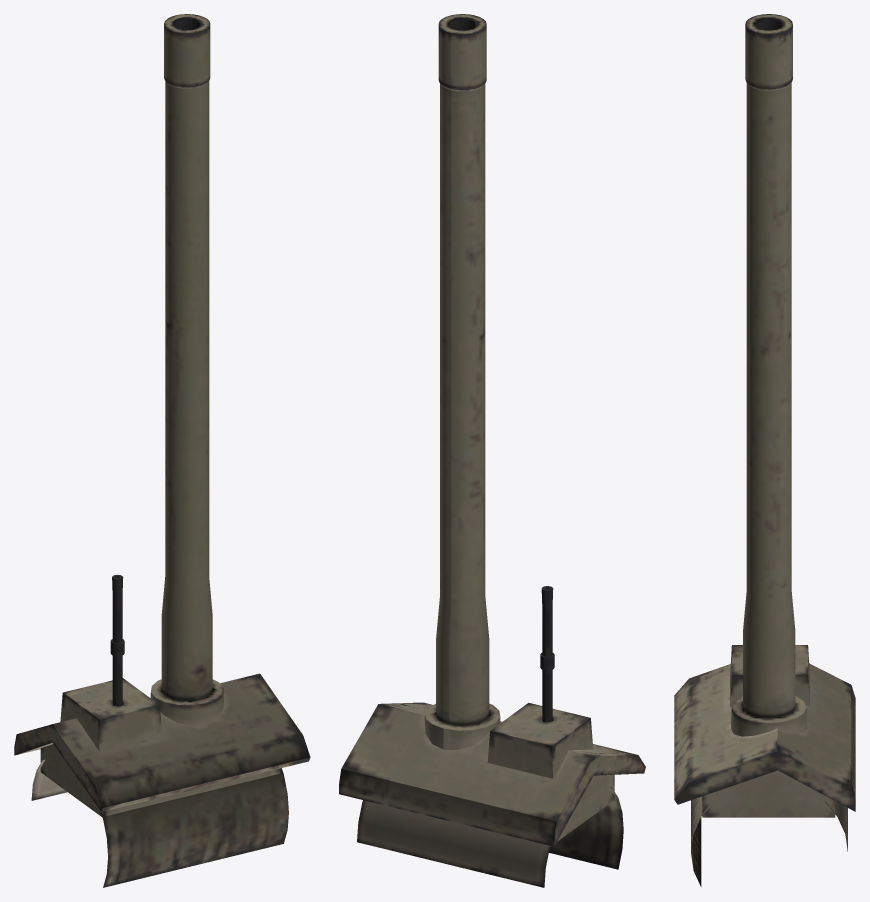
Rendered from Gun_04.glb.
3 views of the same model, side by side, from view 1: azimuth 30°, elevation 25°; view 2: azimuth 150°, elevation 25°; view 3: azimuth 270°, elevation 25° (orthographic). The views are drawn at different scales.
Parts seen in each view (by area): view 1: set_0_group_0; view 2: set_0_group_0; view 3: set_0_group_0.
Part boxes in pixels (x1,y1,x2,y2): set_0_group_0: (14, 14, 310, 887); set_0_group_0: (339, 14, 645, 887); set_0_group_0: (674, 14, 855, 886).
Bounding box in the file's own units: 0.5168 × 1.93 × 0.3816.
1 material, 1 textured.
